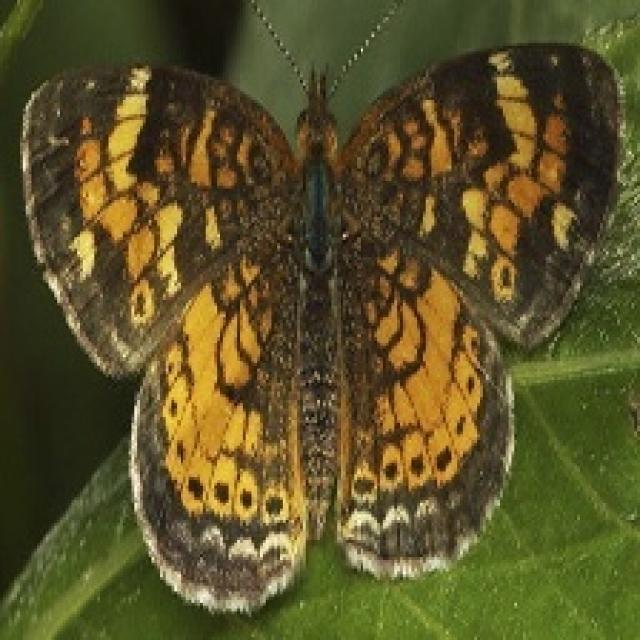butterfly: (14, 0, 622, 614)
